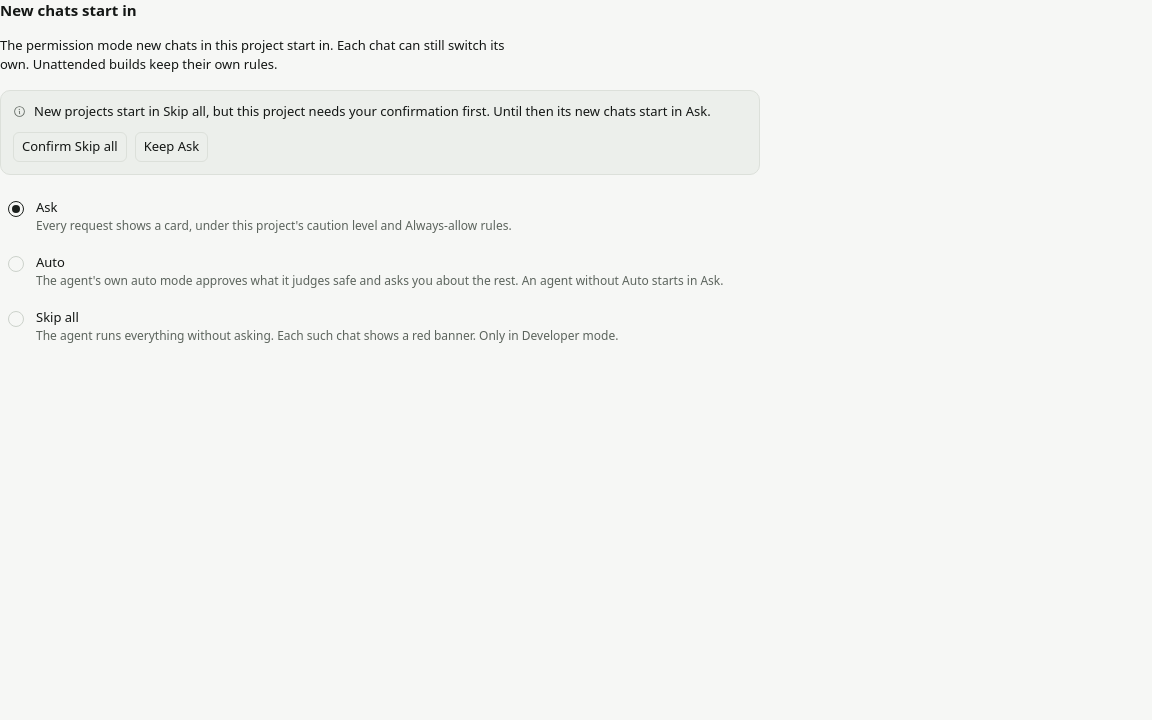
Test: Workspace settings → New chats start in › asks for the confirmation a Skip all from the app-wide default waits for
Click the button with test id "default-mode-confirm-skip-all".
click(70, 147)  # box [13,132,127,162]
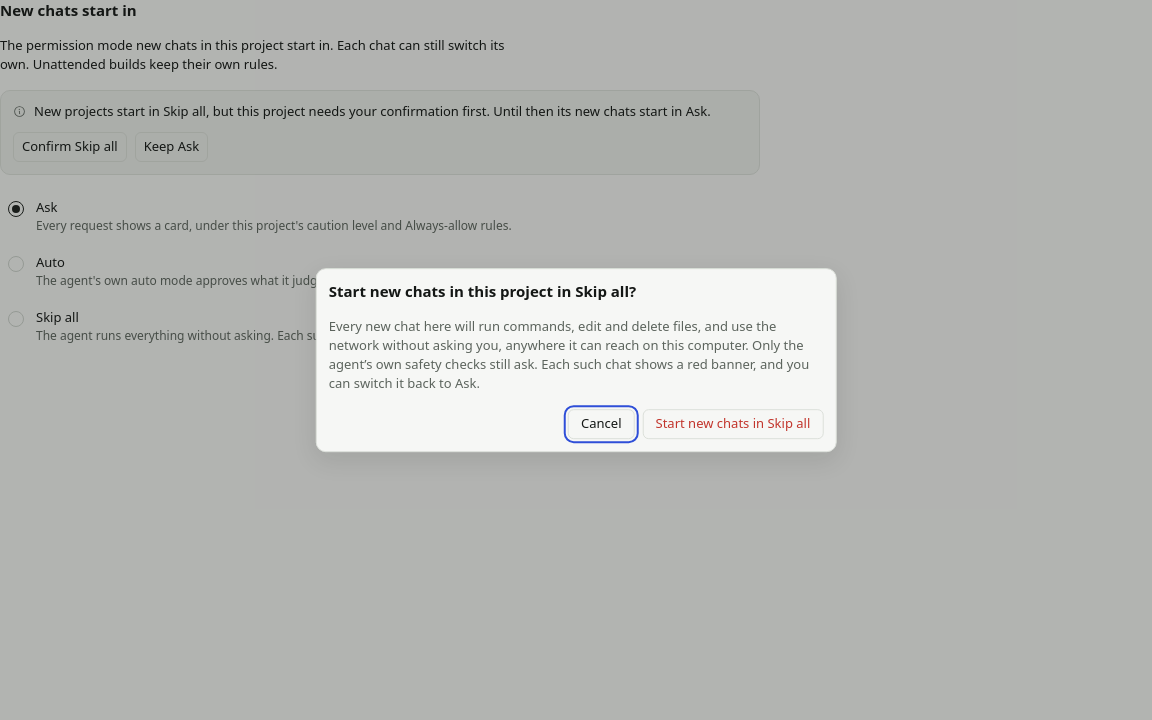
Click the button with test id "default-mode-skip-all-confirm-button".
click(733, 424)  # box [642,409,823,439]
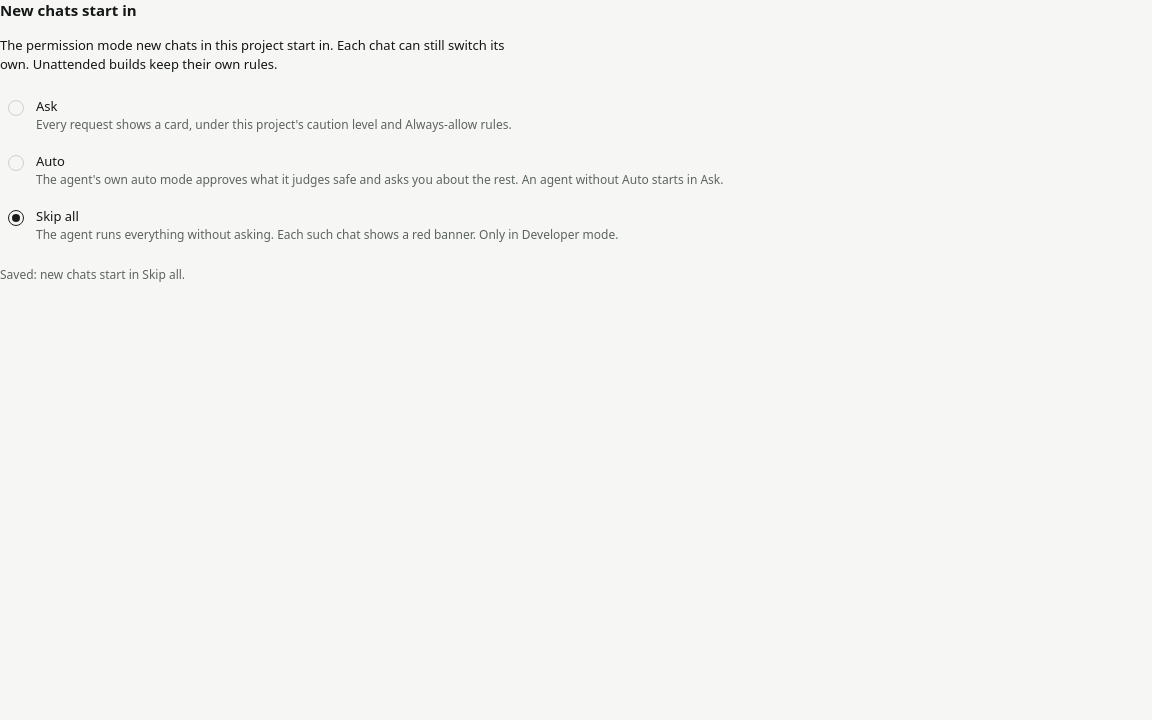
Check: the message with test id "default-mode-notice" is gone
